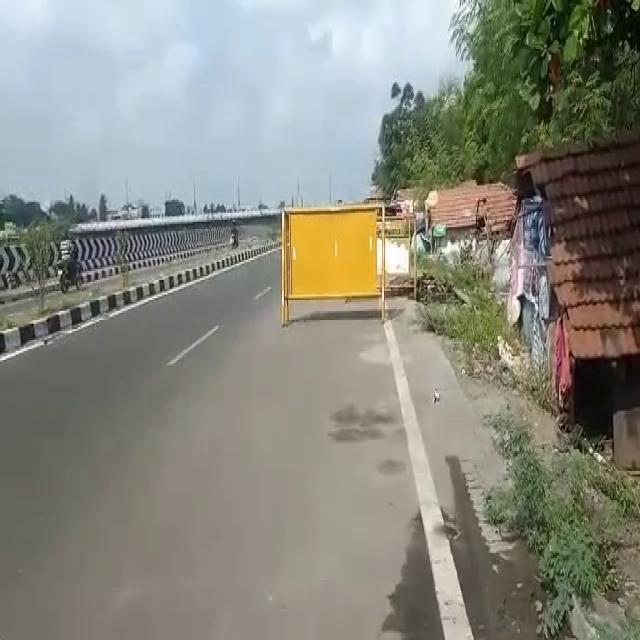fallen_object: (246, 183, 414, 347)
